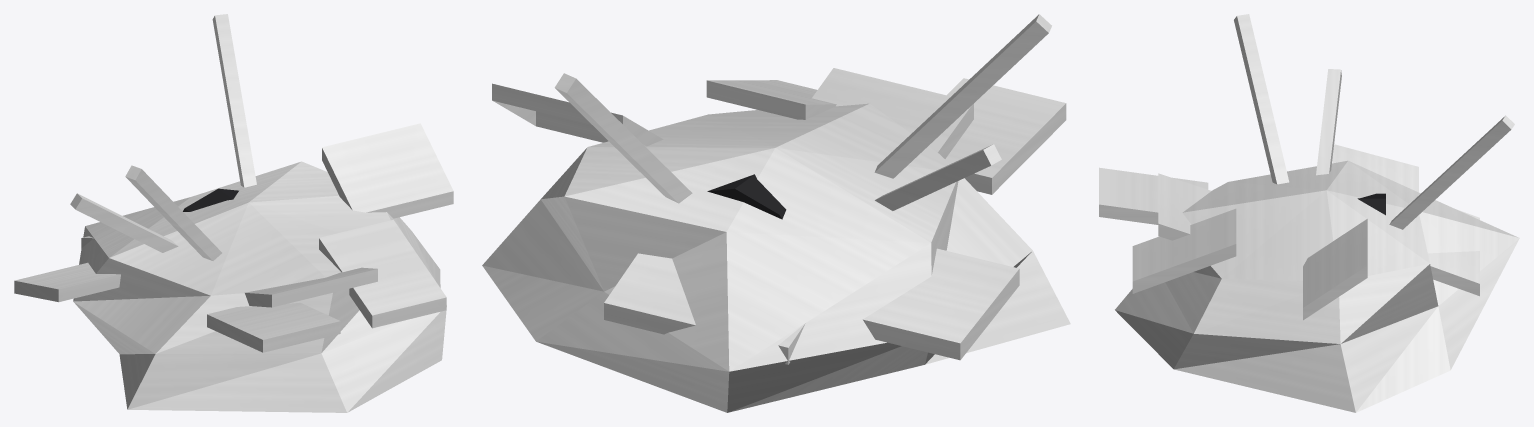
File: junk_1.obj
3 views of the same model, side by side, from view 1: azimuth 30°, elevation 25°; view 2: azimuth 150°, elevation 25°; view 3: azimuth 270°, elevation 25° (orthographic). The views are drawn at different scales.
Parts seen in each view (by area): view 1: junk_1; view 2: junk_1; view 3: junk_1.
Part boxes in pixels (<box>): junk_1: <box>14,14,453,412</box>; junk_1: <box>482,14,1070,412</box>; junk_1: <box>1099,14,1519,412</box>.
Bounding box in the file's own units: 0.9637 × 0.5469 × 0.9172.
